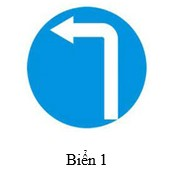Turn_left: (25, 5, 149, 131)
